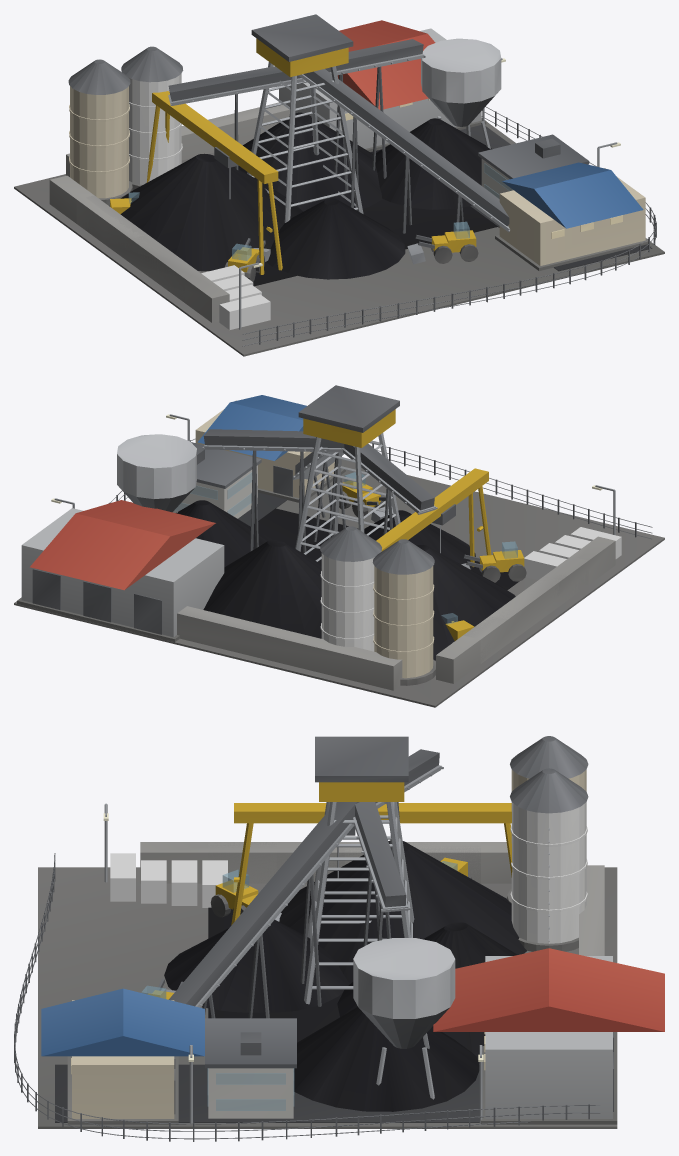
File: Depot_P2.fbx
3 renders of one model, top to bottom at view 1: azimuth 30°, elevation 25°; view 2: azimuth 150°, elevation 25°; view 3: azimuth 270°, elevation 25°, orthographic. The views are drawn at different scales.
Parts seen in each view (by area): view 1: Depot.Yard, Depot.Shed2, Depot.Pile0, Depot.Walls, Depot.Tower, Depot.Pile3, Depot.Silo0, Depot.Shed1, Depot.ConvMain, Depot.Pile1, Depot.Hopper, Depot.Silo1 (+9 smaller); view 2: Depot.Shed1, Depot.Yard, Depot.Walls, Depot.Tower, Depot.Pile1, Depot.Silo0, Depot.Silo1, Depot.Shed2, Depot.Hopper, Depot.Pile0, Depot.ConvA, Depot.Office (+10 smaller); view 3: Depot.Yard, Depot.Shed1, Depot.Shed2, Depot.Pile2, Depot.Silo1, Depot.Pile0, Depot.Tower, Depot.Hopper, Depot.ConvMain, Depot.Walls, Depot.Office, Depot.Pile3 (+8 smaller).
Part boxes in pixels (x1,y1,x2,y2): Depot.Yard: [14, 121, 664, 356]; Depot.Shed2: [495, 162, 650, 270]; Depot.Pile0: [109, 153, 303, 271]; Depot.Walls: [49, 102, 289, 322]; Depot.Tower: [247, 14, 363, 222]; Depot.Pile3: [266, 198, 405, 279]; Depot.Silo0: [68, 59, 132, 205]; Depot.Shed1: [279, 20, 486, 151]; Depot.ConvMain: [298, 69, 509, 233]; Depot.Pile1: [238, 112, 382, 211]; Depot.Hopper: [421, 38, 501, 148]; Depot.Silo1: [121, 46, 183, 190]; Depot.Shed1: [17, 500, 224, 642]; Depot.Yard: [14, 459, 664, 707]; Depot.Walls: [177, 536, 615, 690]; Depot.Tower: [295, 385, 400, 561]; Depot.Pile1: [203, 539, 321, 638]; Depot.Silo0: [372, 539, 435, 685]; Depot.Silo1: [320, 526, 381, 651]; Depot.Shed2: [195, 395, 345, 502]; Depot.Hopper: [117, 434, 196, 512]; Depot.Pile0: [416, 545, 515, 660]; Depot.ConvA: [202, 429, 346, 553]; Depot.Office: [173, 442, 261, 518]; Depot.Yard: [38, 867, 617, 1128]; Depot.Shed1: [433, 948, 664, 1124]; Depot.Shed2: [41, 988, 204, 1124]; Depot.Pile2: [294, 1007, 479, 1111]; Depot.Silo1: [510, 768, 588, 951]; Depot.Pile0: [279, 840, 526, 982]; Depot.Tower: [304, 736, 414, 1004]; Depot.Hopper: [353, 938, 455, 1099]; Depot.ConvMain: [168, 802, 359, 1018]; Depot.Walls: [140, 842, 604, 955]; Depot.Office: [205, 1018, 296, 1118]; Depot.Pile3: [164, 920, 350, 1012].
Bounding box in the file's own units: 7627 × 2966 × 7642.
